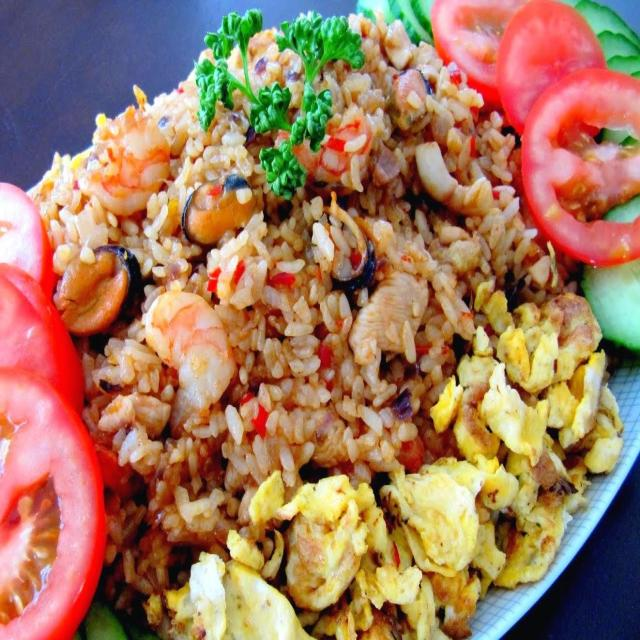Nasi Goreng: (21, 5, 630, 637)
